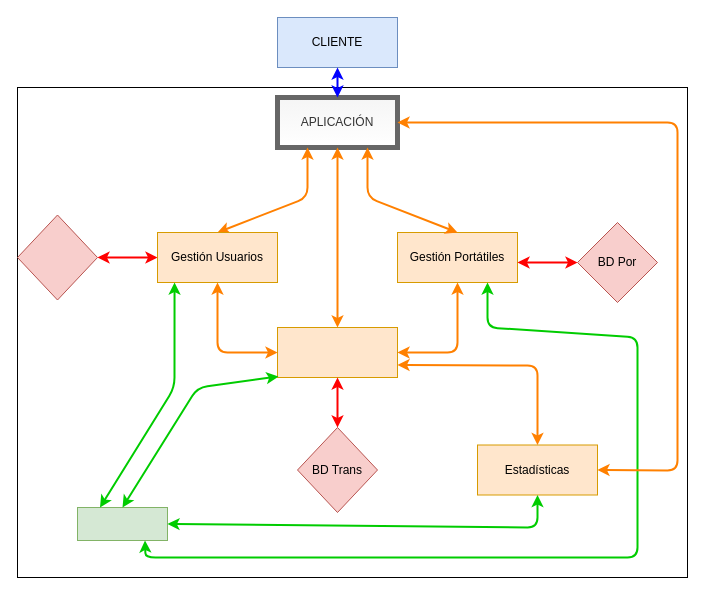
The diagram is 705 pixels wide and 603 high, and some of its shapes have lost their labels. The box of each missing label's shape, as (x1, y1, x2, y2) in pixels:
BD Usu: (16, 214, 98, 300)
LOG: (76, 506, 168, 540)
Transacciones: (276, 326, 398, 378)
